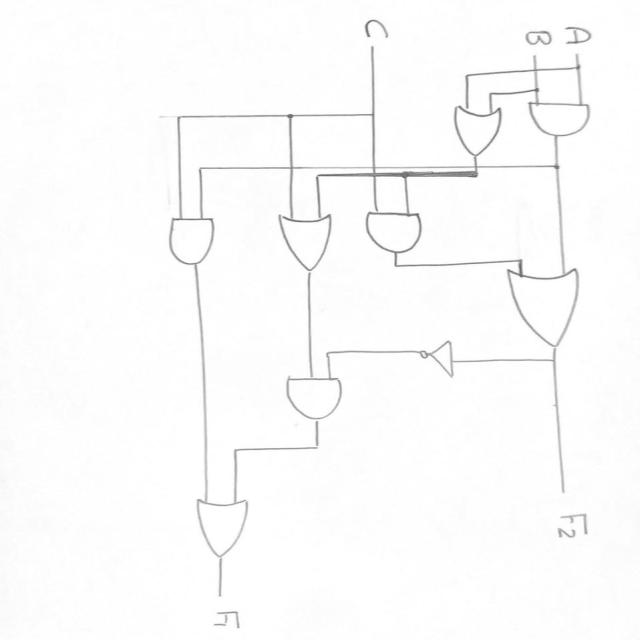AND: (160, 207, 228, 279), (352, 200, 434, 256), (280, 367, 352, 430), (524, 98, 596, 149)
NOT: (406, 330, 471, 382)
OR: (496, 267, 600, 353), (269, 204, 344, 283), (187, 493, 264, 565), (444, 97, 508, 160)
